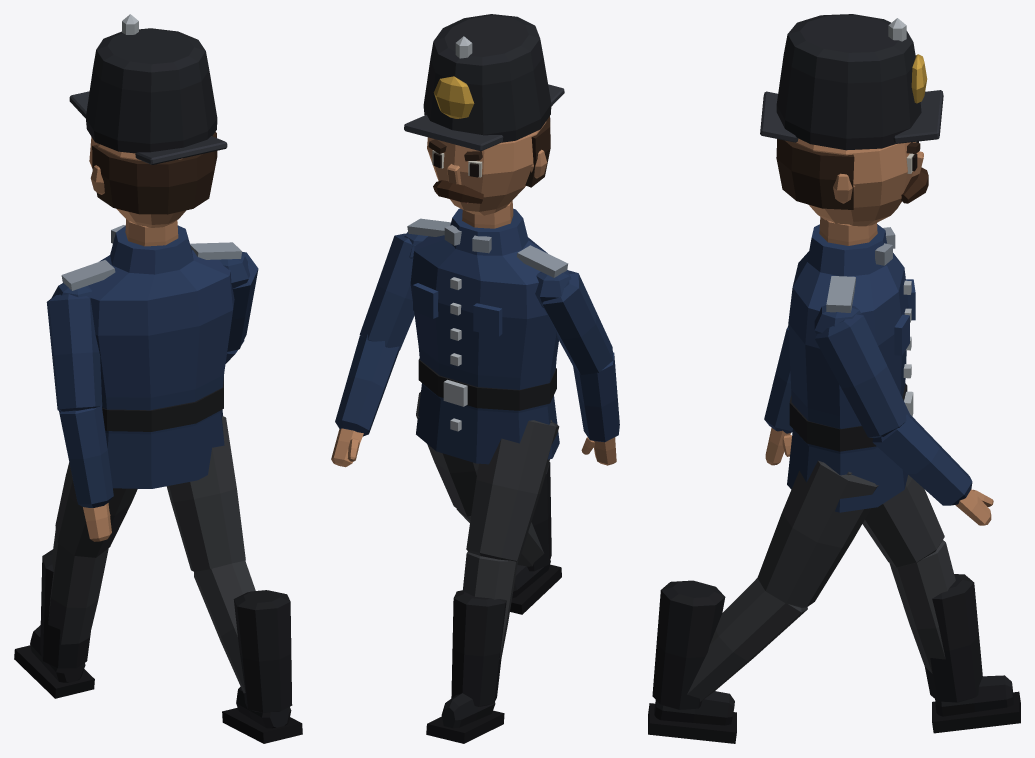
Rendered from chr_police_w1.glb.
3 renders of one model, left to right at view 1: azimuth 30°, elevation 25°; view 2: azimuth 150°, elevation 25°; view 3: azimuth 270°, elevation 25°, orthographic. The views are drawn at different scales.
Visible parts, largest first — view 1: chr_police_w1; view 2: chr_police_w1; view 3: chr_police_w1.
Boxes of the visible parts, x1,y1,x2,y2 form: chr_police_w1: [14, 14, 302, 743]; chr_police_w1: [331, 14, 619, 743]; chr_police_w1: [648, 14, 1020, 743].
Bounding box in the file's own units: 0.601 × 1.78 × 0.8289.
